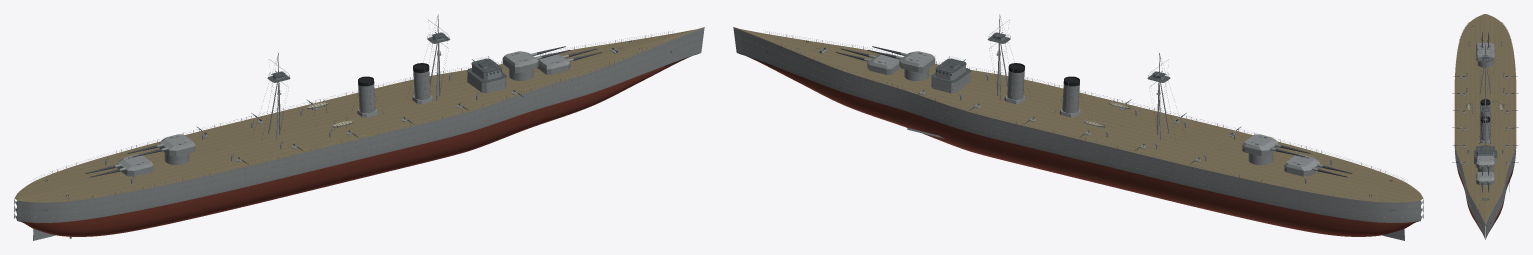
File: admiral.glb
The picture shows the model from 3 angles, left to right: view 1: azimuth 30°, elevation 25°; view 2: azimuth 150°, elevation 25°; view 3: azimuth 270°, elevation 25°; orthographic projection. The views are drawn at different scales.
Parts seen in each view (by area): view 1: Admiral class; view 2: Admiral class; view 3: Admiral class.
Boxes of the visible parts, left/top/right/bottom form: Admiral class: left=14, top=14, right=704, bottom=240; Admiral class: left=733, top=14, right=1423, bottom=240; Admiral class: left=1452, top=14, right=1518, bottom=239.
Bounding box in the file's own units: 262 × 47.34 × 34.41.
Materials: 9 (8 with a texture image).
